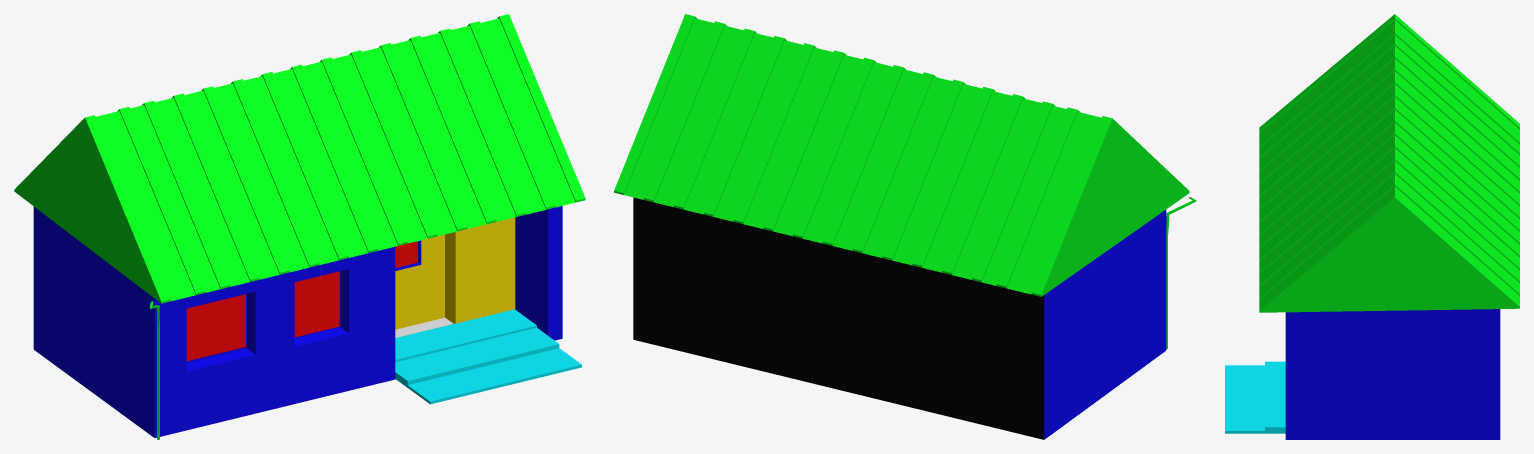
The model's file is House_high.FBX.
3 views of the same model, side by side, from view 1: azimuth 30°, elevation 25°; view 2: azimuth 150°, elevation 25°; view 3: azimuth 270°, elevation 25° (orthographic). The views are drawn at different scales.
Parts seen in each view (by area): view 1: Roof_high, House_high, Steps_high; view 2: Roof_high, House_high; view 3: Roof_high, House_high, Steps_high.
Part boxes in pixels (x1,y1,x2,y2): Roof_high: (14,14,585,303); House_high: (33,206,562,437); Steps_high: (395,309,581,404); Roof_high: (614,14,1189,296); House_high: (633,197,1166,439); Roof_high: (1259,14,1519,312); House_high: (1285,309,1500,439); Steps_high: (1225,361,1285,433).
Size of the model in its own units: 2068 by 1265 by 1374.
